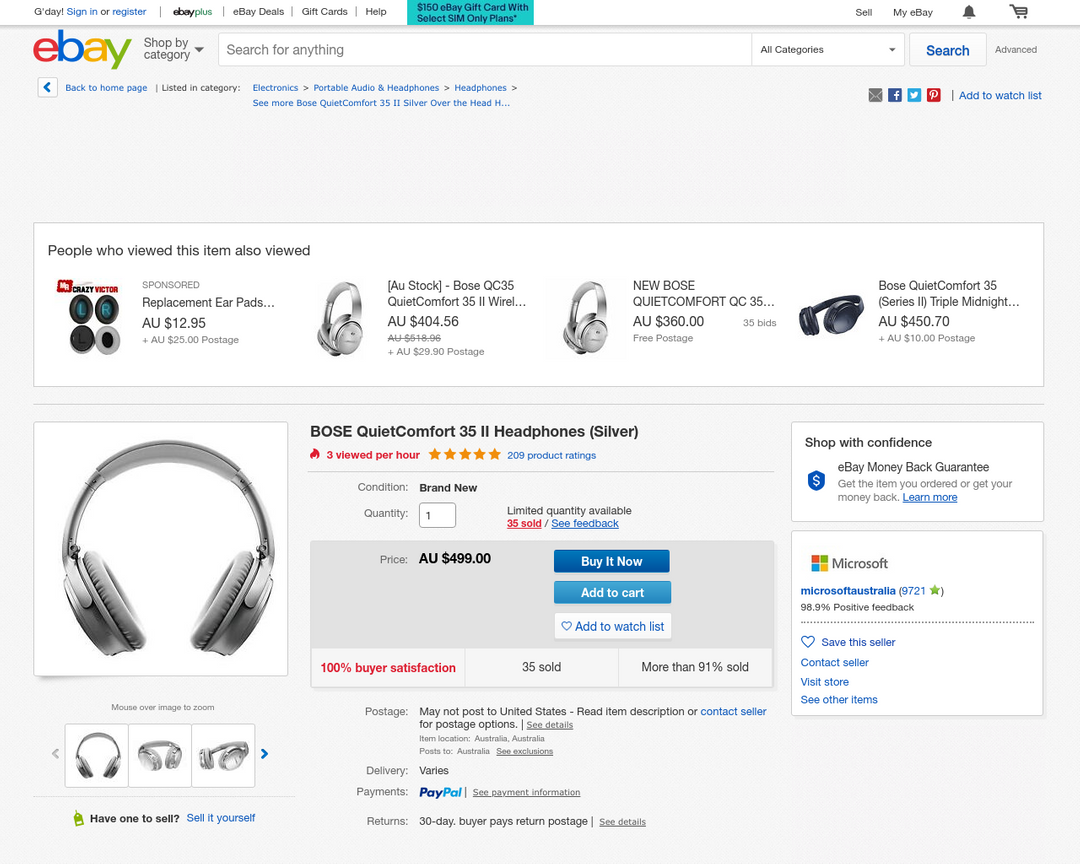Ebay: (31, 26, 138, 74)
